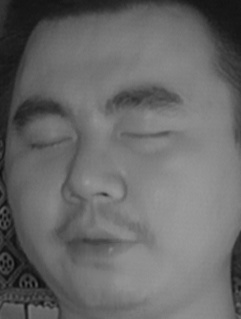blink: (113, 115, 174, 157), (21, 124, 76, 161)
mouth: (52, 211, 139, 271)
